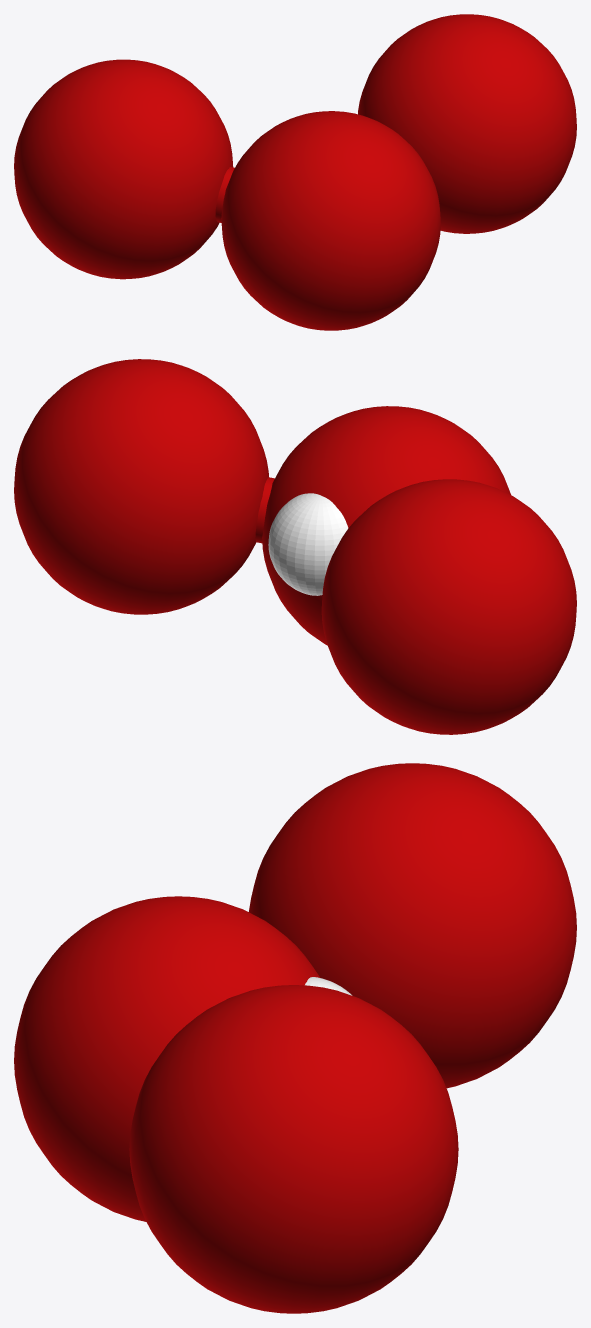
Rendered from propane3.glb.
3 renders of one model, top to bottom at view 1: azimuth 30°, elevation 25°; view 2: azimuth 150°, elevation 25°; view 3: azimuth 270°, elevation 25°, orthographic. The views are drawn at different scales.
Parts seen in each view (by area): view 1: Carbon_ball (×3); view 2: Carbon_ball (×3), Hydrogen_ball; view 3: Carbon_ball (×3).
Part boxes in pixels (left/top/right/bottom): Carbon_ball (×3): left=14, top=14, right=576, bottom=330; Carbon_ball (×3): left=14, top=359, right=576, bottom=734; Hydrogen_ball: left=268, top=493, right=348, bottom=595; Carbon_ball (×3): left=14, top=763, right=576, bottom=1313.
Size of the model in its own units: 4 by 1.74 by 2.63.
